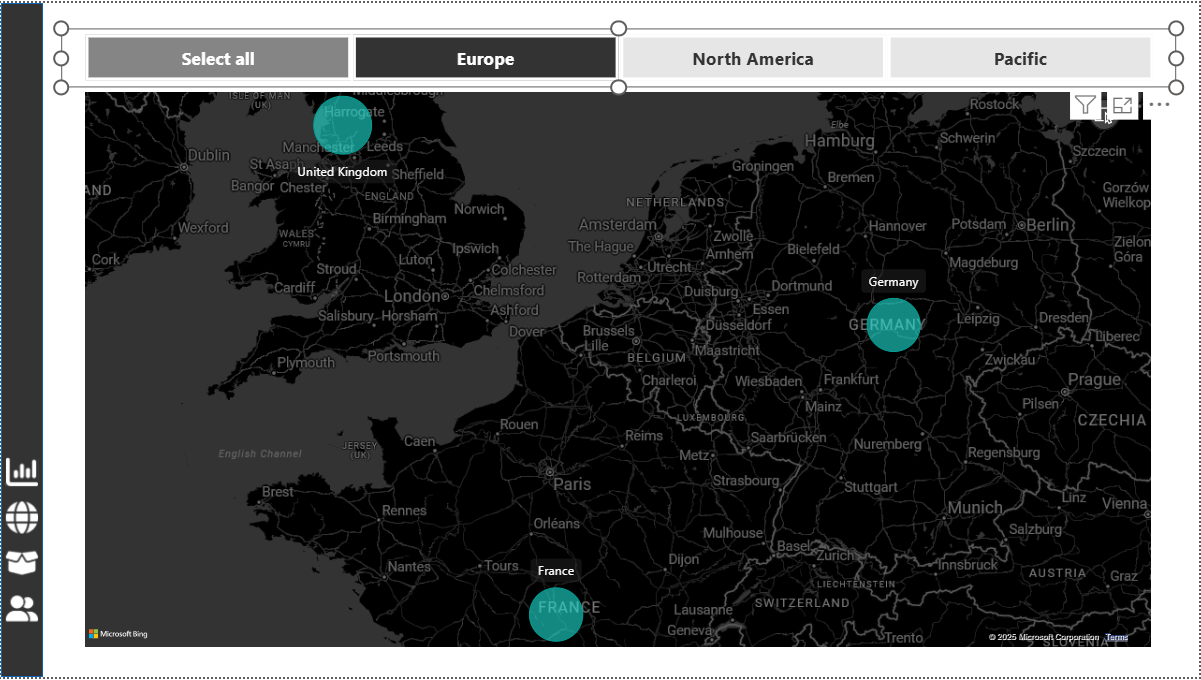

The page's visual inventory and layout, read from the dashboard file:
{"tool":"powerbi","page":{"name":"Map","canvas":[1280,720],"ordinal":1},"visuals":[{"type":"shape","box":[0,0,45,719.9],"z":0},{"type":"actionButton","box":[1.3,527.9,62.3,42.4],"z":0,"group":"g1"},{"type":"map","fields":{"Category":["Territory Lookup.Country"],"Size":["Measure Table.Total Orders"]},"box":[84.8,90.1,1149.4,603.2],"z":1000},{"type":"actionButton","box":[1.3,576.5,62.3,42.4],"z":1000,"group":"g1"},{"type":"slicer","fields":{"Values":["Territory Lookup.Continent"]},"box":[65,27.8,1190.5,62.3],"z":2000},{"type":"actionButton","box":[1.3,625.1,62.3,42.4],"z":2000,"group":"g1"},{"type":"group","id":"g1","title":"Navigation Buttons","box":[1.3,479.3,62.3,188.2],"z":3000},{"type":"actionButton","box":[1.3,479.3,62.3,42.4],"z":3000,"group":"g1"}]}

Visuals, with their boxes in screenshot pixels (x1, y1, x2, y2):
shape: [left=0, top=3, right=42, bottom=669]
actionButton: [left=1, top=492, right=59, bottom=531]
map - Territory Lookup.Country x Measure Table.Total Orders: [left=78, top=87, right=1142, bottom=645]
actionButton: [left=1, top=537, right=59, bottom=576]
slicer - Territory Lookup.Continent: [left=60, top=29, right=1162, bottom=87]
actionButton: [left=1, top=582, right=59, bottom=621]
"Navigation Buttons" group: [left=1, top=447, right=59, bottom=621]
actionButton: [left=1, top=447, right=59, bottom=486]
